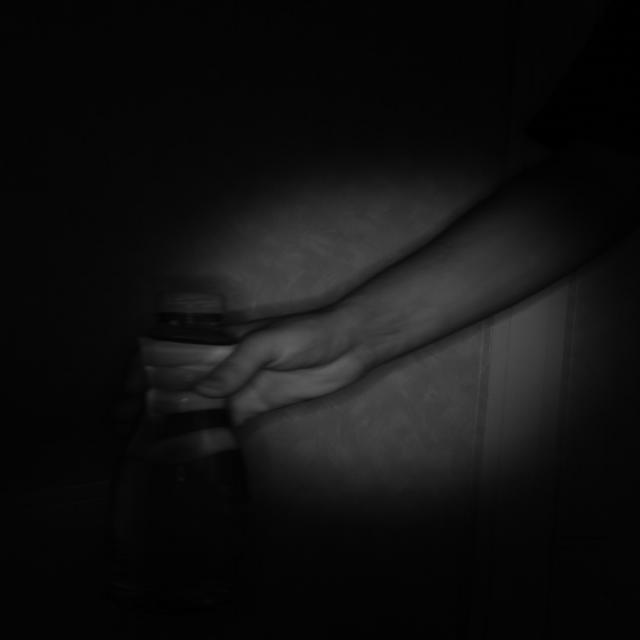Good: (151, 292, 226, 317)
